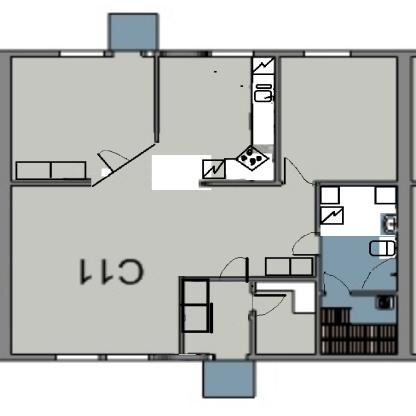door: (360, 258, 402, 292), (216, 254, 254, 282), (94, 148, 130, 175), (280, 154, 310, 184), (286, 233, 320, 255), (251, 296, 286, 316), (324, 272, 350, 297)
window: (53, 353, 98, 360), (60, 51, 104, 58), (302, 51, 348, 56), (211, 51, 256, 56), (106, 355, 147, 359)
zone: (11, 185, 318, 356), (9, 55, 156, 187), (160, 56, 276, 184), (281, 58, 398, 182), (321, 186, 400, 356), (184, 282, 316, 355)
